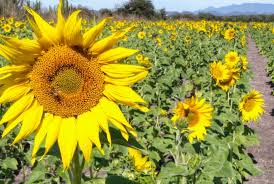girasol: (1, 6, 150, 155), (166, 96, 216, 139), (236, 92, 269, 125)
